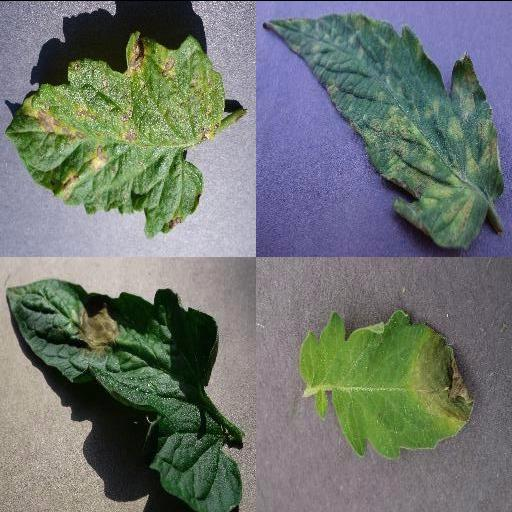Late Blight: (6, 277, 242, 512), (295, 309, 477, 457)
Leaf Mold: (264, 13, 504, 246)
Septoria: (2, 32, 226, 236)
